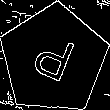P_S: (28, 29, 80, 90)
